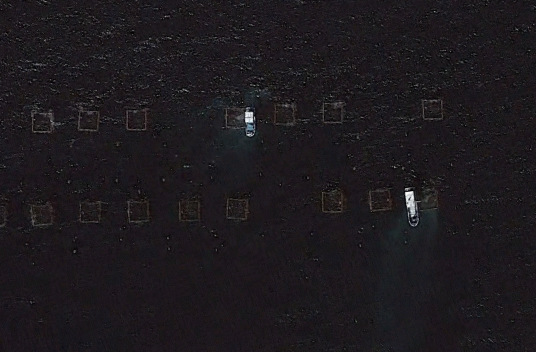ship: (403, 184, 423, 229), (242, 103, 258, 139)
square: (25, 198, 57, 229), (410, 181, 441, 212), (175, 195, 207, 225), (365, 184, 395, 215), (28, 107, 59, 137), (74, 106, 104, 136), (74, 198, 106, 226), (123, 196, 153, 225), (220, 101, 250, 130), (319, 187, 348, 216), (123, 105, 151, 135), (224, 194, 252, 222), (320, 97, 346, 126), (420, 94, 446, 122), (272, 99, 298, 127)
